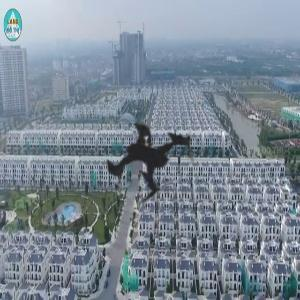drone: (29, 39, 278, 288)
